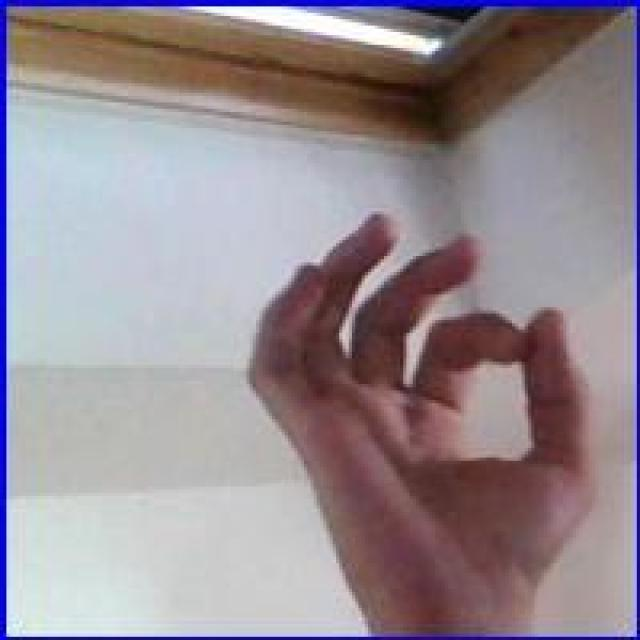F: (242, 203, 610, 632)
